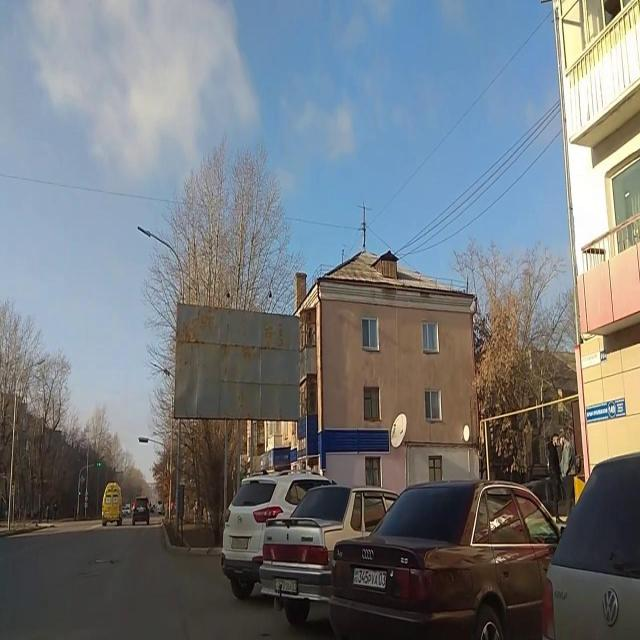car: (328, 478, 564, 639), (258, 484, 399, 626), (541, 450, 639, 639)
license: (352, 566, 386, 590)
